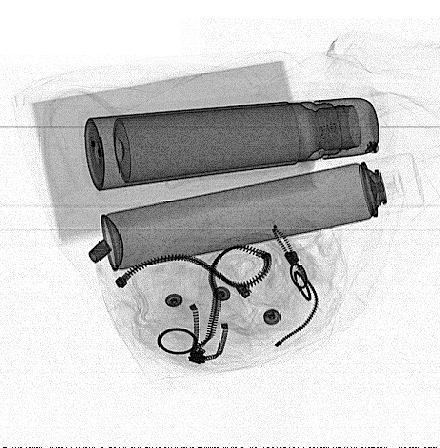Sprayer: (100, 153, 424, 273)
